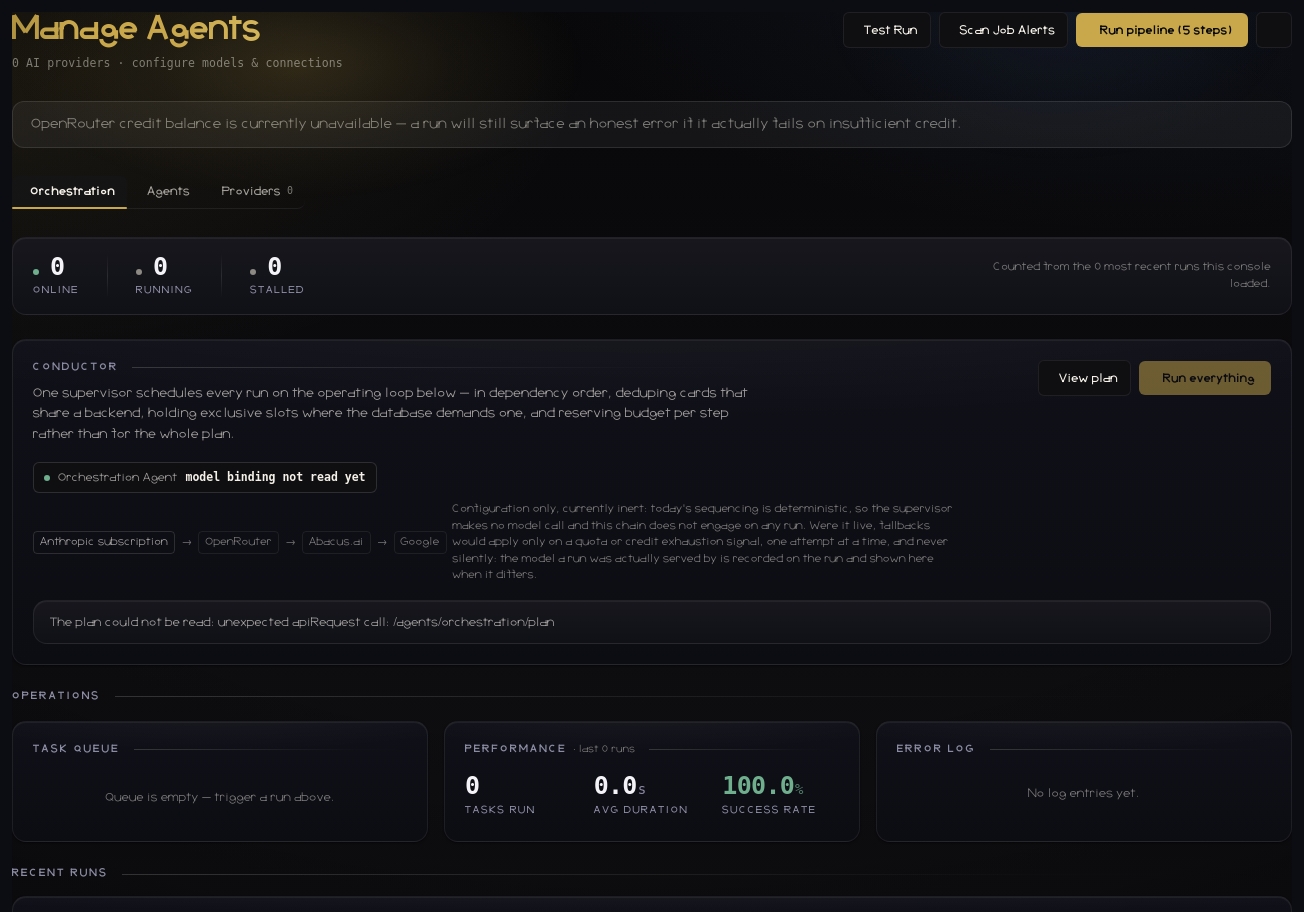
it: NF-final-closure-002: honest no-résumé refusal surfacing (agents console) › pipeline ('Run pipeline') refusal: renders the honest message, never 'Pipeline complete'
The image size is (1304, 912).
Click the button with test id "run-pipeline-btn": (1162,30) [1076,13,1248,47]
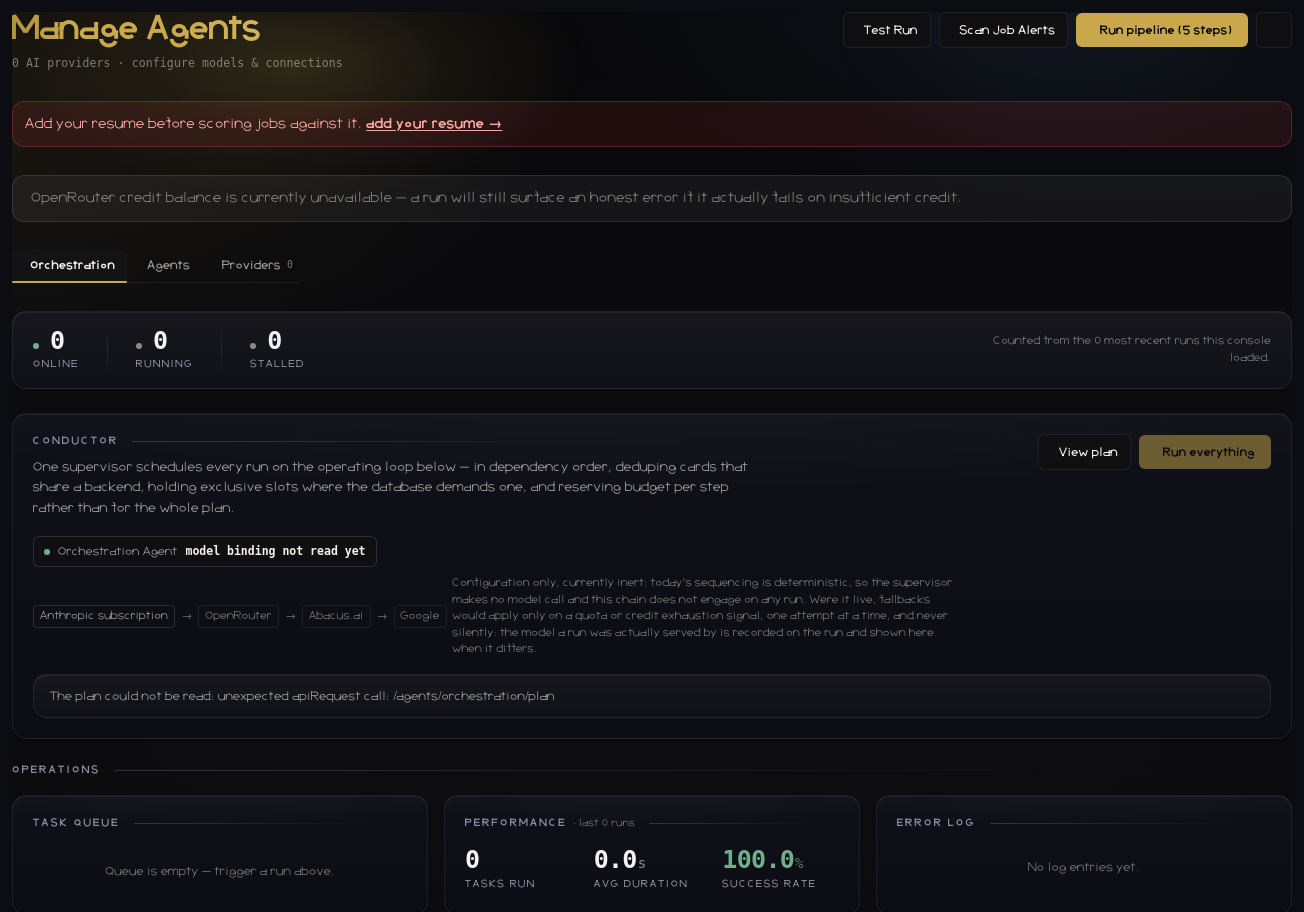
Expected: the message with test id "agents-notice" shows "Add your resume before scoring jobs against it.", [25,117,362,131]
